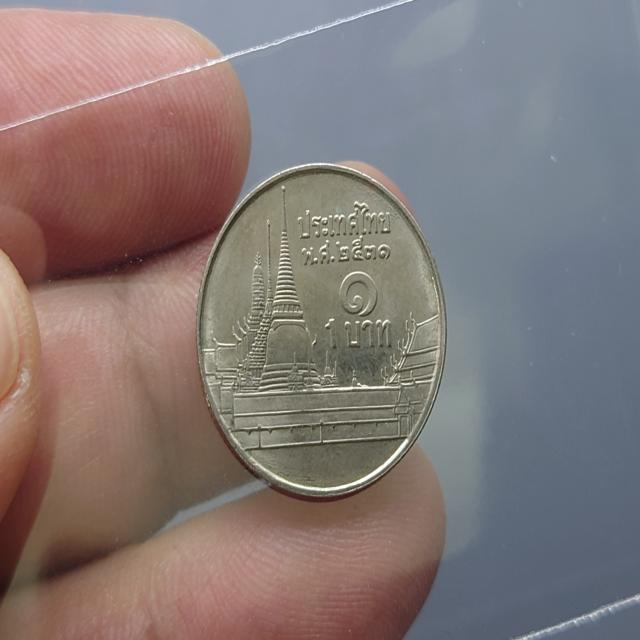1 Bath: (188, 154, 459, 513)
